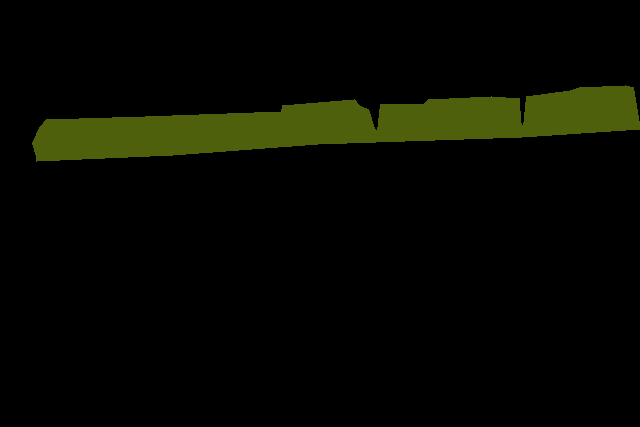Train: (32, 85, 640, 161)
